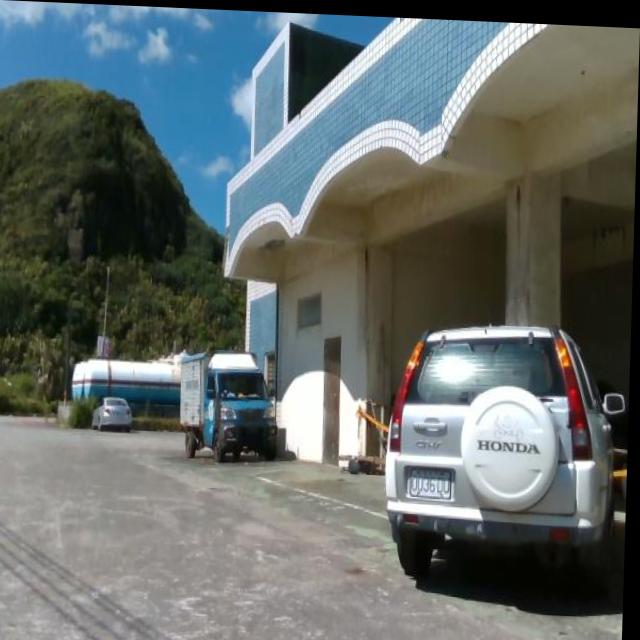pollute: (344, 449, 388, 475)
